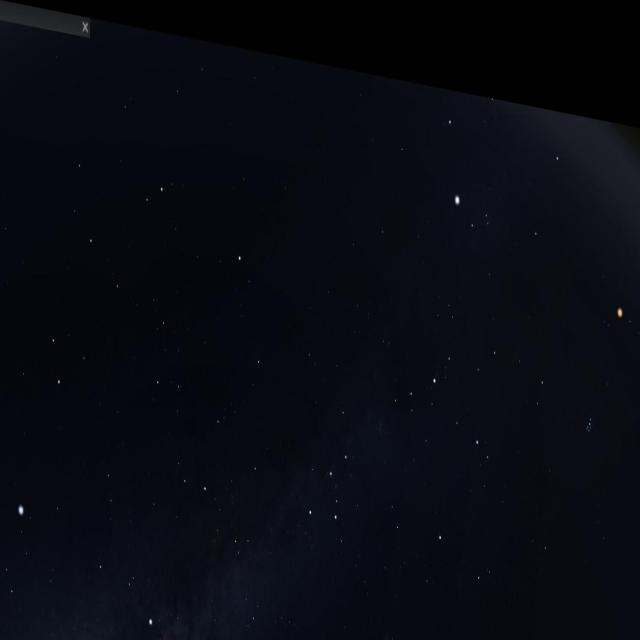cassiopeia: (304, 357, 366, 540)
pleiades: (578, 375, 600, 422)
